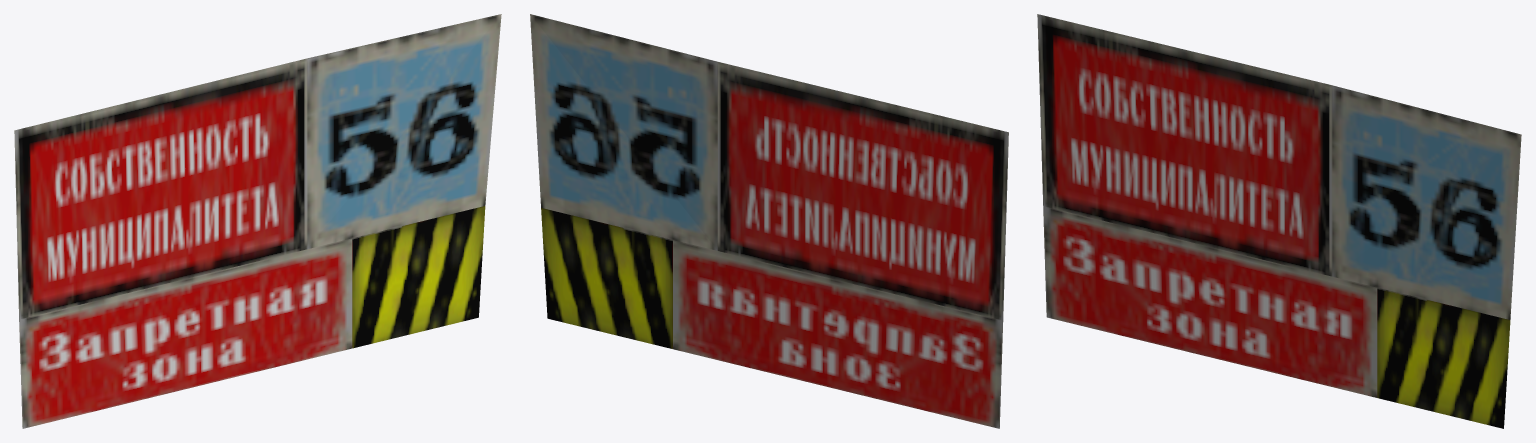
The model's file is Schild_Sector [56]_1526.glb.
3 renders of one model, left to right at view 1: azimuth 30°, elevation 25°; view 2: azimuth 150°, elevation 25°; view 3: azimuth 330°, elevation 25°, orthographic.
Visible parts, largest first — view 1: pPlaneShape66, pPlaneShape67, pPlaneShape61, pPlaneShape78; view 2: pPlaneShape66, pPlaneShape67, pPlaneShape61, pPlaneShape78; view 3: pPlaneShape66, pPlaneShape67, pPlaneShape61, pPlaneShape78.
Boxes of the visible parts, x1=… form: pPlaneShape66: x1=14, y1=58, x2=306, y2=319; pPlaneShape67: x1=19, y1=238, x2=352, y2=428; pPlaneShape61: x1=306, y1=14, x2=501, y2=249; pPlaneShape78: x1=352, y1=206, x2=485, y2=348; pPlaneShape66: x1=718, y1=62, x2=1008, y2=320; pPlaneShape67: x1=673, y1=240, x2=1003, y2=428; pPlaneShape61: x1=530, y1=14, x2=717, y2=250; pPlaneShape78: x1=541, y1=208, x2=672, y2=348; pPlaneShape66: x1=1037, y1=14, x2=1331, y2=276; pPlaneShape67: x1=1043, y1=206, x2=1377, y2=397; pPlaneShape61: x1=1331, y1=85, x2=1521, y2=319; pPlaneShape78: x1=1377, y1=287, x2=1510, y2=428.
Size of the model in its own units: 0.5622 by 0.3335 by 0.00511.
Materials: 4 (4 with a texture image).
